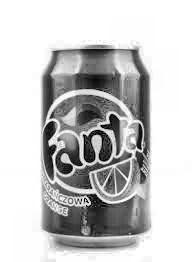can: (26, 33, 167, 257)
